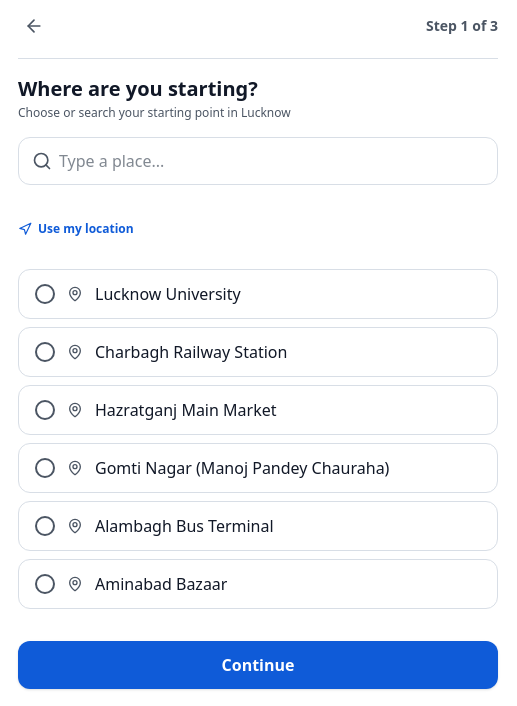
Scenario: Milestone U2: Plan Flow & Primitives › U2-05 & U2-10: Step 3 Route Compare & Golden Numbers › matches golden takeaway numbers (4 and 10) and pre-selects Recommended
Click the button with test id "step-1-continue-btn": (258, 665) [18,641,498,689]
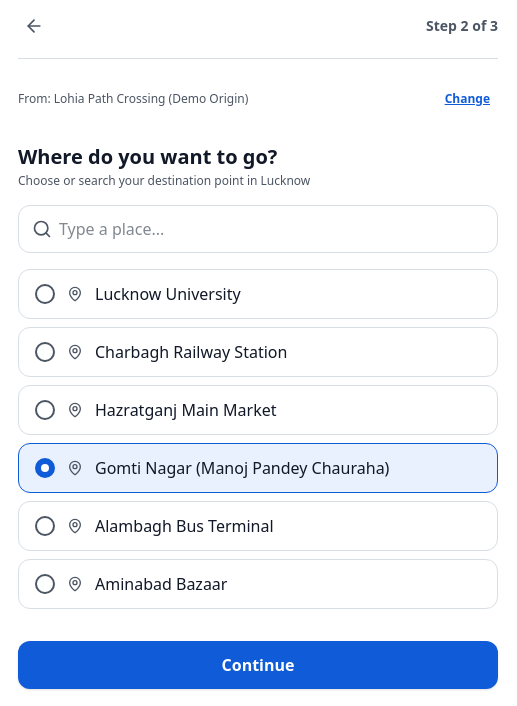
Click the button with test id "step-2-continue-btn": (258, 665) [18,641,498,689]
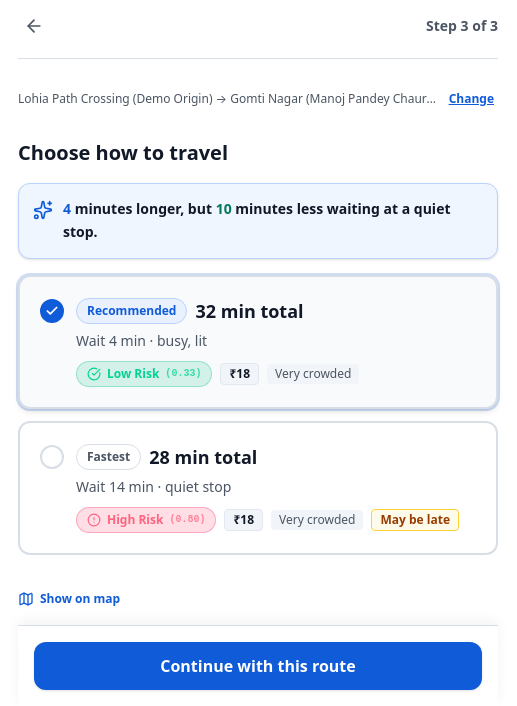
Check: the text with test id "step-indicator" reads "Step 3 of 3", box [426,16,498,35]
Check: the heading "Choose how to travel" is shown, box [18,139,228,166]
Check: the element with test id "takeaway-line" shows "4 minutes longer, but 10 minutes less waiting at a quiet stop", box [18,183,498,258]
